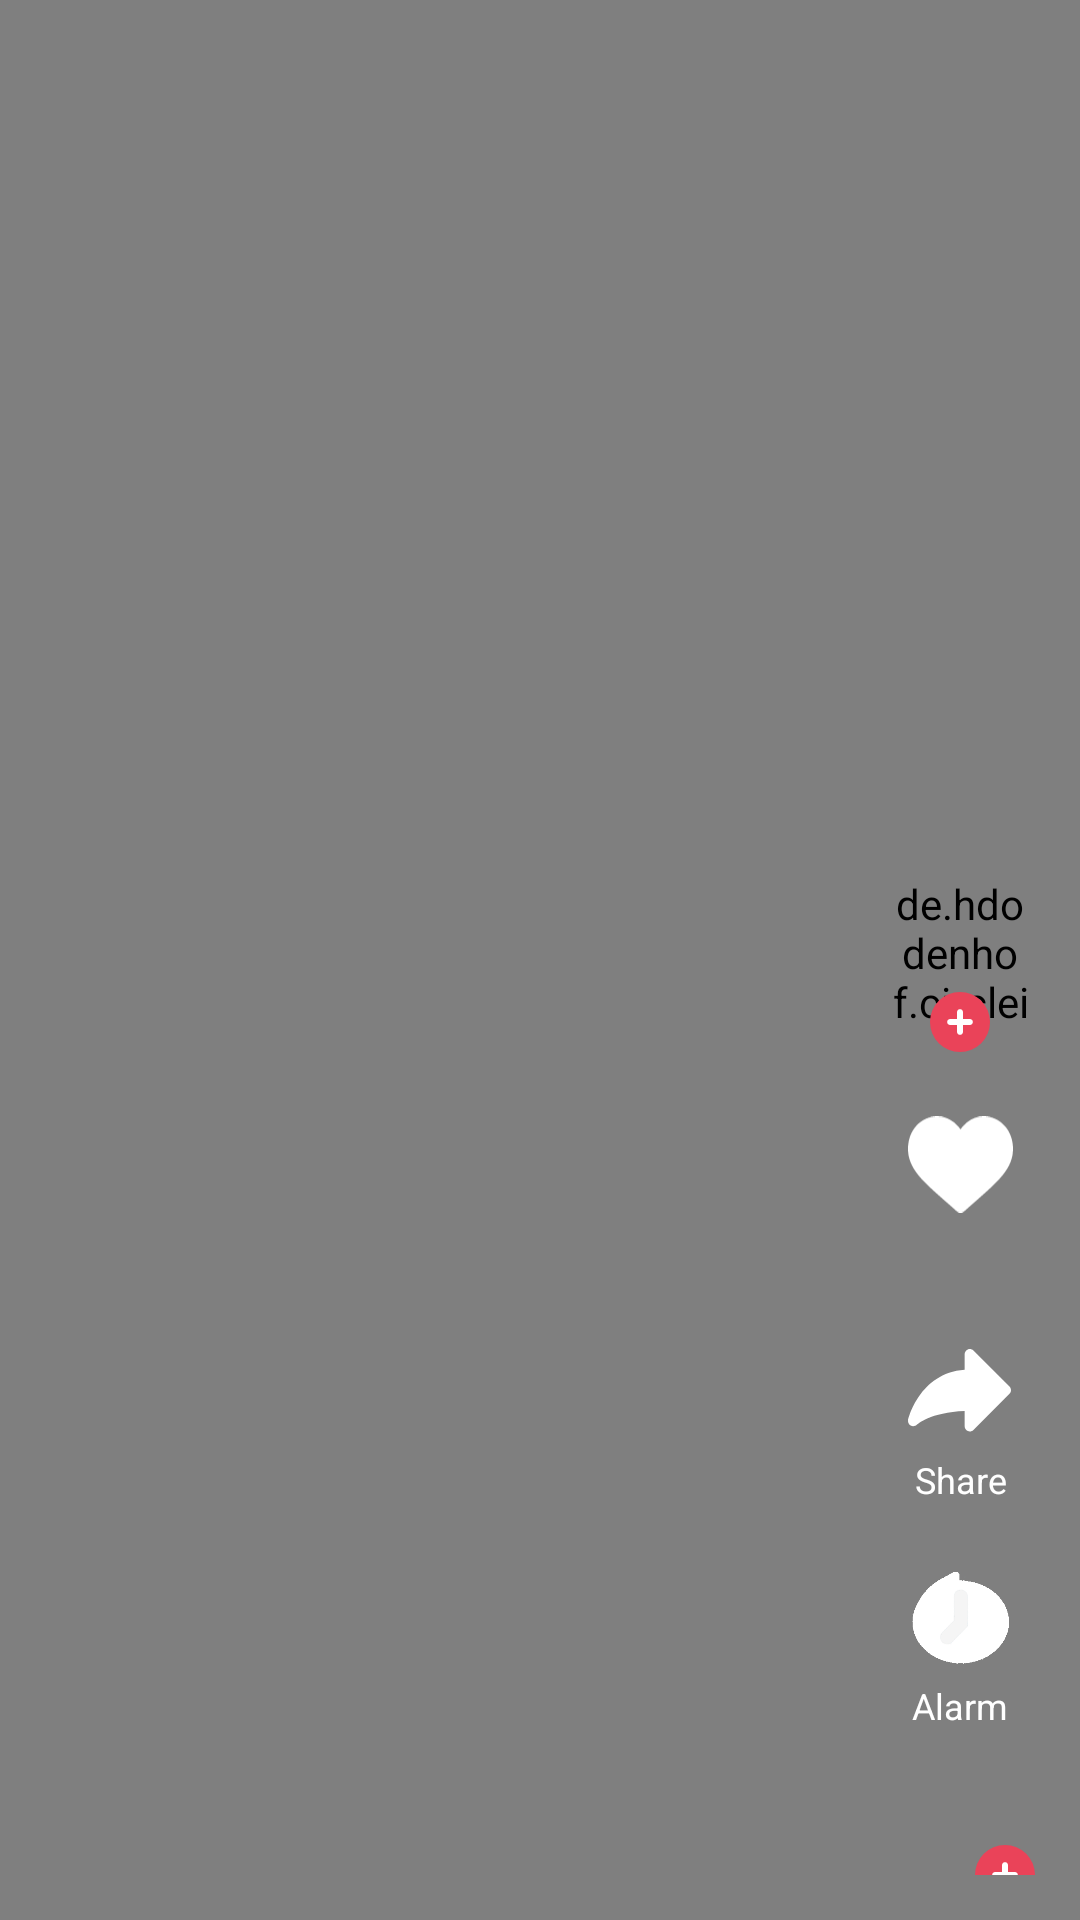

Screen size 1080px x 1920px. Icon name, then its center in pixels as (x,y):
heart: (960,1164)
